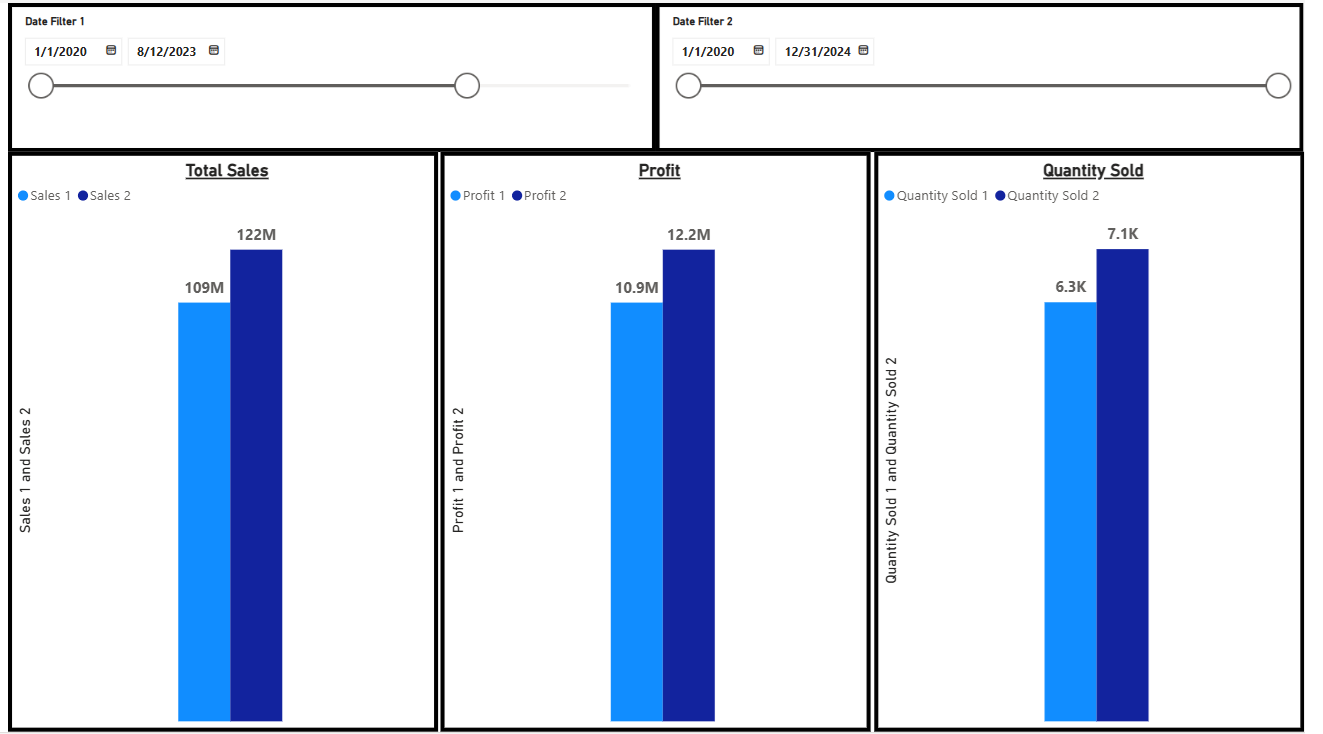

This screenshot's page, from the dashboard's own definition file:
{"tool":"powerbi","page":{"name":"Compare Stats","canvas":[1280,720],"ordinal":3},"visuals":[{"type":"slicer","fields":{"Values":["Date Table 1.Date"]},"box":[640,0,640,147.5],"z":0},{"type":"slicer","fields":{"Values":["Date Table 2.Date"]},"box":[0,0,640,147.5],"z":1000},{"type":"clusteredColumnChart","title":"Total Sales","fields":{"Y":["Sum(Fact Table.Net Sales)","Date Table 2.Sum of Net Sales"]},"box":[0,147.5,425,572.5],"z":2000},{"type":"clusteredColumnChart","title":"Profit ","fields":{"Y":["Sum(Fact Table.Profit)","Measures Table.Total profit"]},"box":[427.5,147.5,425,572.5],"z":3000},{"type":"clusteredColumnChart","title":"Quantity Sold ","fields":{"Y":["Sum(Fact Table.Units Sold)","Measures Table.Quantity Sold"]},"box":[855,147.5,425,572.5],"z":4000}]}

Visuals, with their boxes in screenshot pixels (x1, y1, x2, y2), scaled from the page's 1280x720 canvas onto the 1323x734 screenshot:
slicer - Date Table 1.Date: [662, 0, 1322, 150]
slicer - Date Table 2.Date: [0, 0, 662, 150]
"Total Sales" clusteredColumnChart: [0, 150, 439, 733]
"Profit " clusteredColumnChart: [442, 150, 881, 733]
"Quantity Sold " clusteredColumnChart: [884, 150, 1322, 733]
